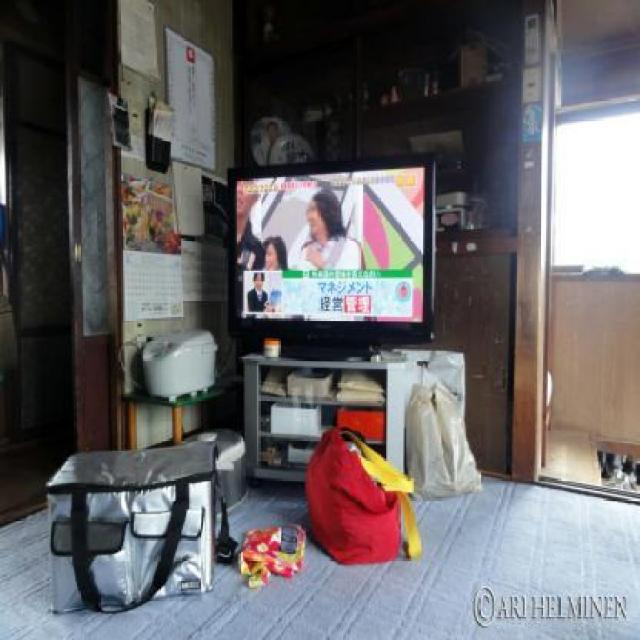plastic bag: (402, 383, 486, 499)
